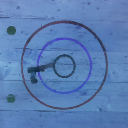Axe Tip: (38, 67, 45, 71)
